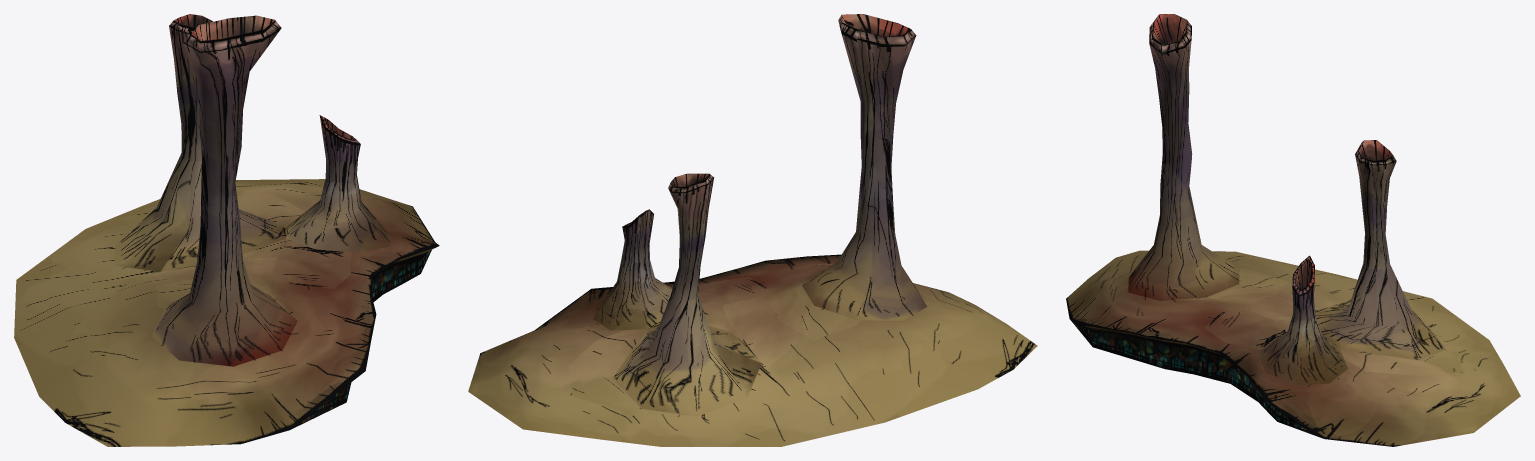
Rendered from smokestack_01.fbx.
3 views of the same model, side by side, from view 1: azimuth 30°, elevation 25°; view 2: azimuth 150°, elevation 25°; view 3: azimuth 270°, elevation 25° (orthographic). The views are drawn at different scales.
Visible parts, largest first — view 1: SmokeStack_01; view 2: SmokeStack_01; view 3: SmokeStack_01.
Part boxes in pixels (left/top/right/bottom): SmokeStack_01: left=14, top=14, right=439, bottom=446; SmokeStack_01: left=468, top=14, right=1037, bottom=446; SmokeStack_01: left=1066, top=14, right=1520, bottom=446.
Size of the model in its own units: 29.95 by 21.18 by 29.97.
